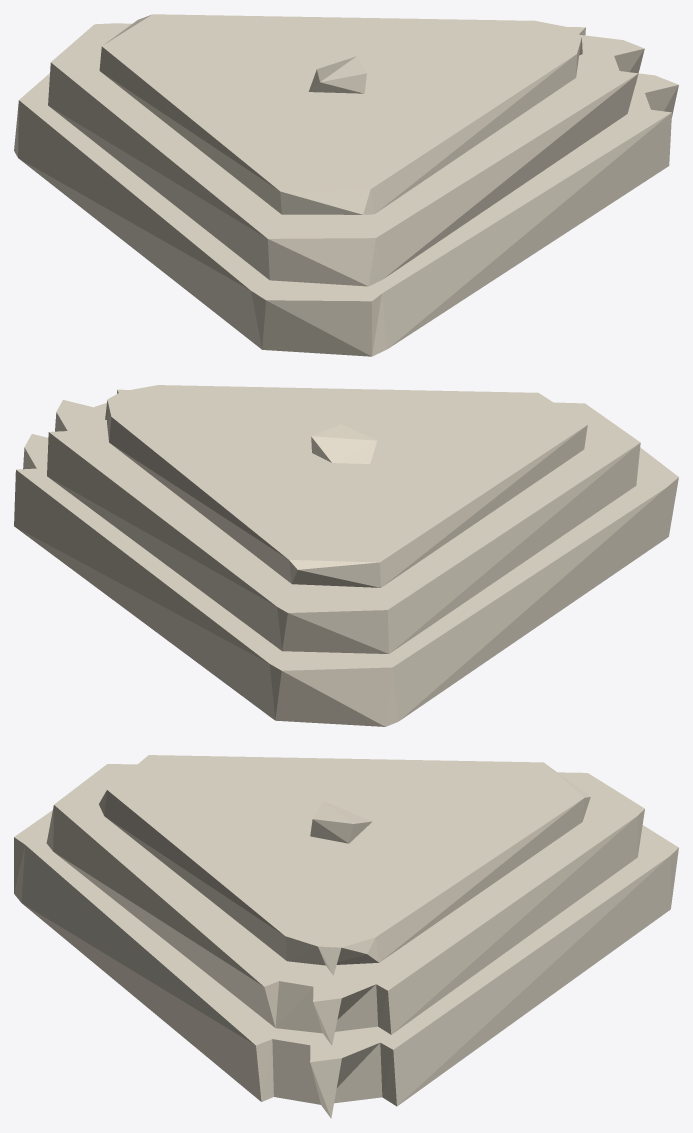
The model's file is new-parliament-house_lod2.glb.
The picture shows the model from 3 angles, top to bottom: view 1: azimuth 30°, elevation 25°; view 2: azimuth 150°, elevation 25°; view 3: azimuth 270°, elevation 25°; orthographic projection. The views are drawn at different scales.
Parts seen in each view (by area): view 1: new-parliament-house; view 2: new-parliament-house; view 3: new-parliament-house.
Part boxes in pixels (bbox=[...]): new-parliament-house: bbox=[14, 14, 678, 356]; new-parliament-house: bbox=[14, 385, 678, 726]; new-parliament-house: bbox=[14, 755, 678, 1118].
Bounding box in the file's own units: 179 × 45.6 × 190.
